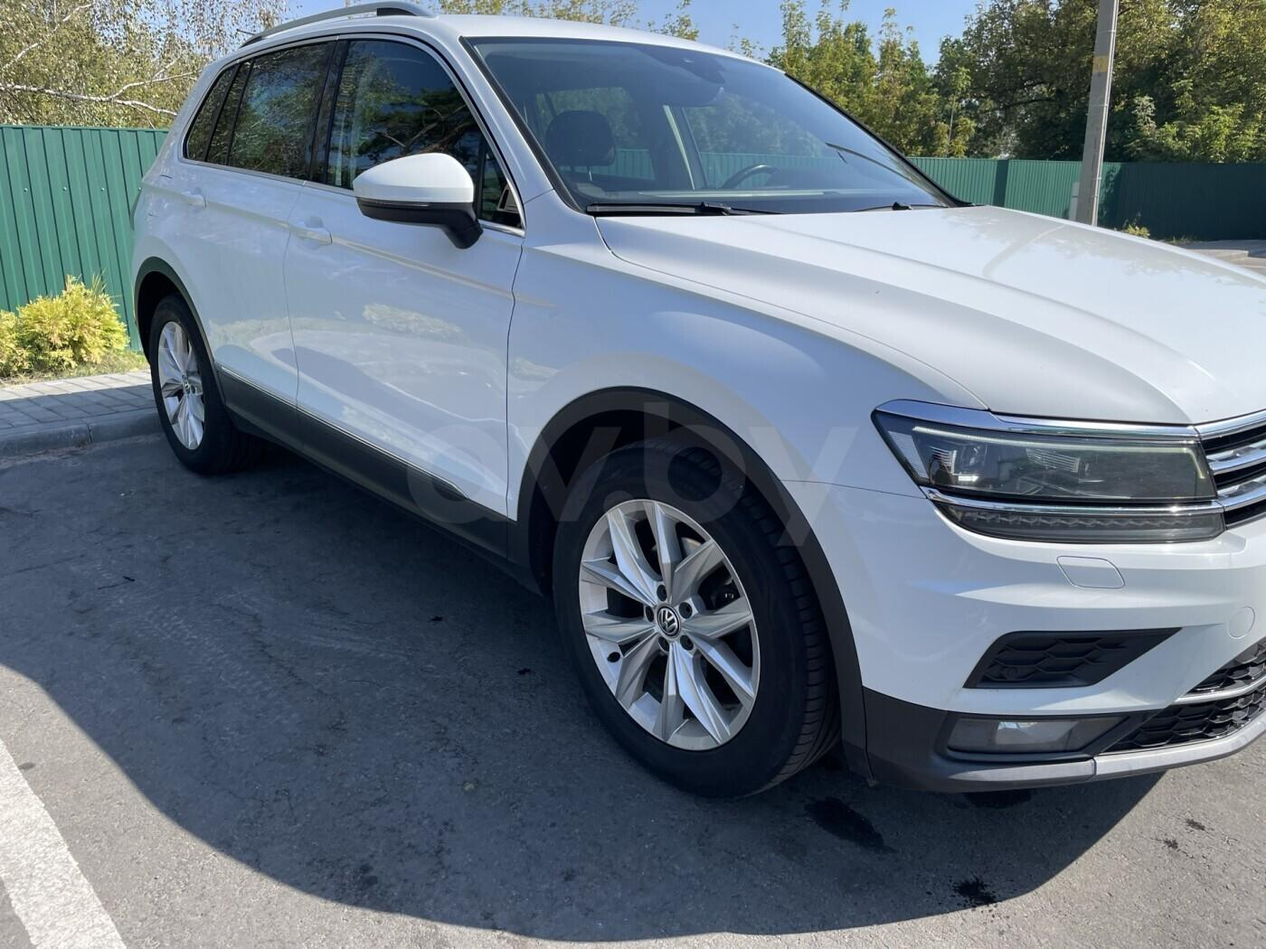Tiguan_2016-2021: (125, 11, 1266, 811)
